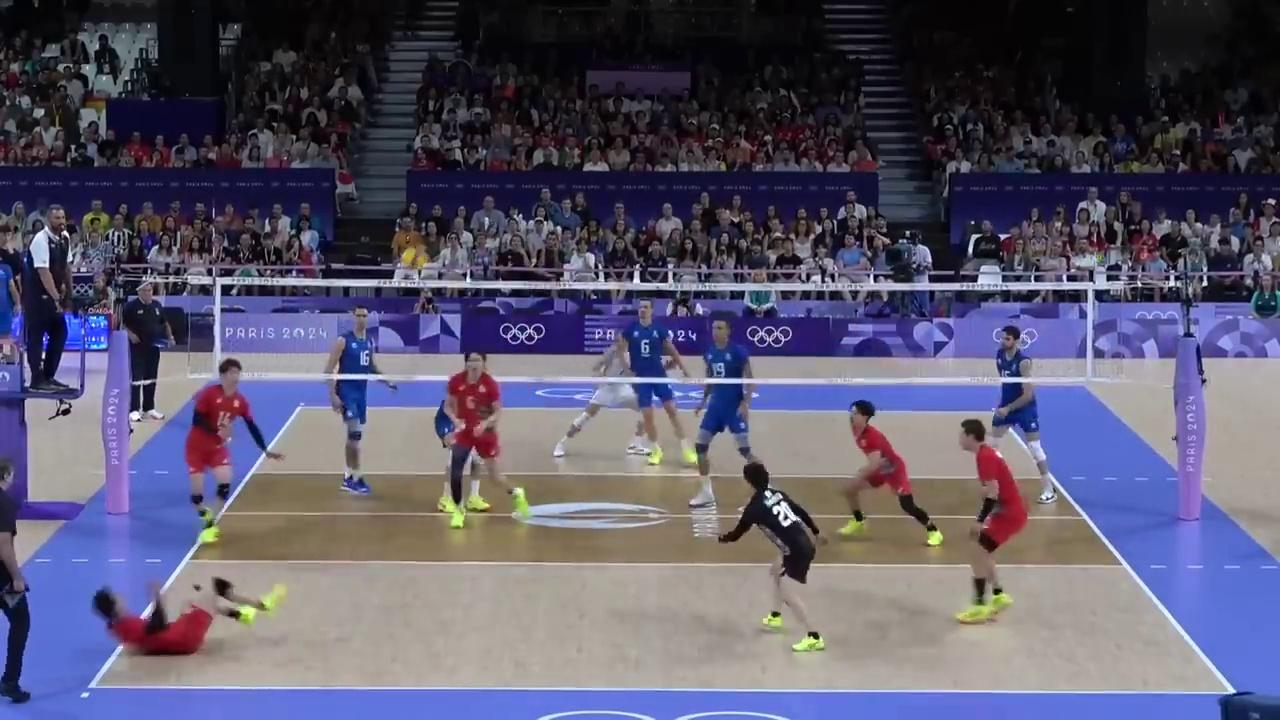ball: (401, 247, 428, 270)
